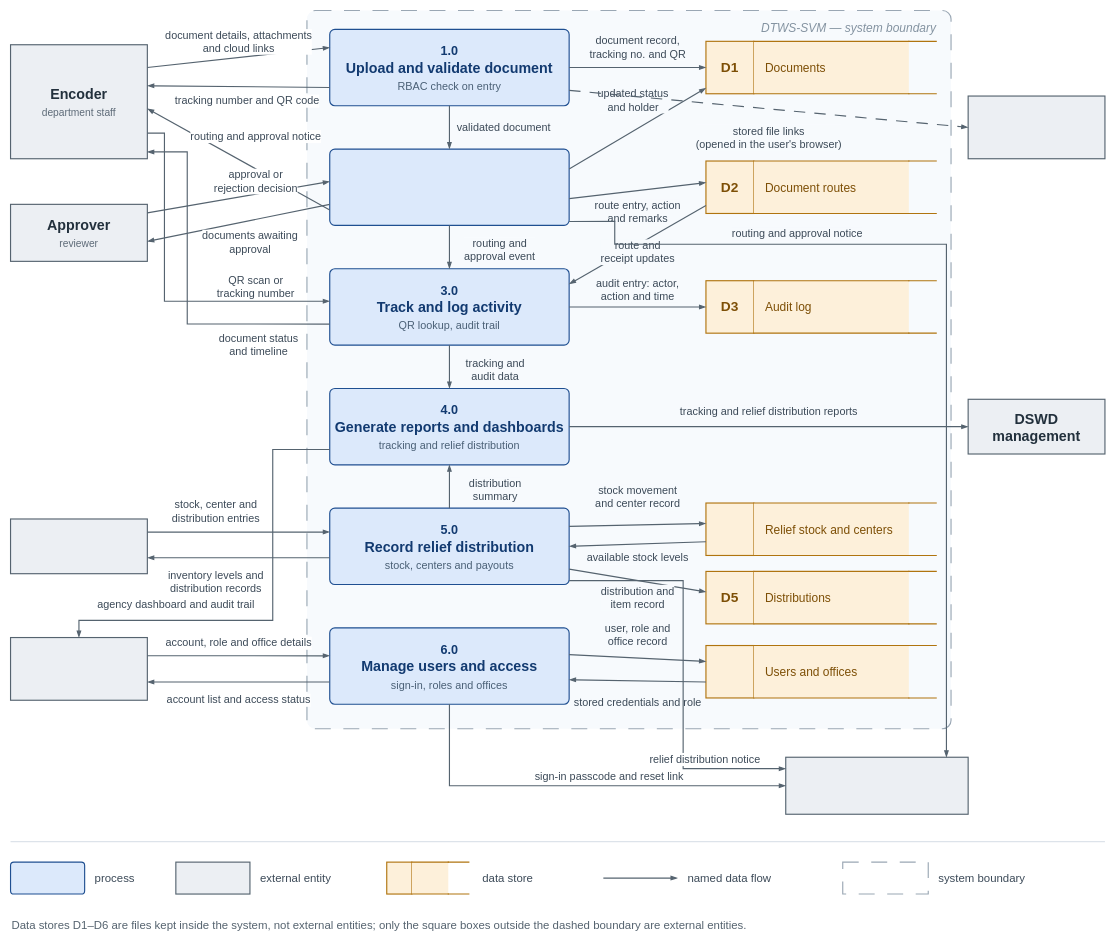
The diagram is 1115 pixels wide and 945 high, and some of its shapes have lost their labels. Here are the shapes that lost their labels. From the top down, the box of each, then its label:
(967, 95, 1105, 159): Cloud storage external file links
(329, 148, 569, 226): 2.0 Route and approve workflow engine, office hierarchy
(10, 518, 148, 574): Logistics relief officer
(705, 502, 754, 556): D4
(10, 637, 148, 701): Administrator system admin
(705, 645, 754, 698): D6
(785, 756, 968, 815): Email service external SMTP
